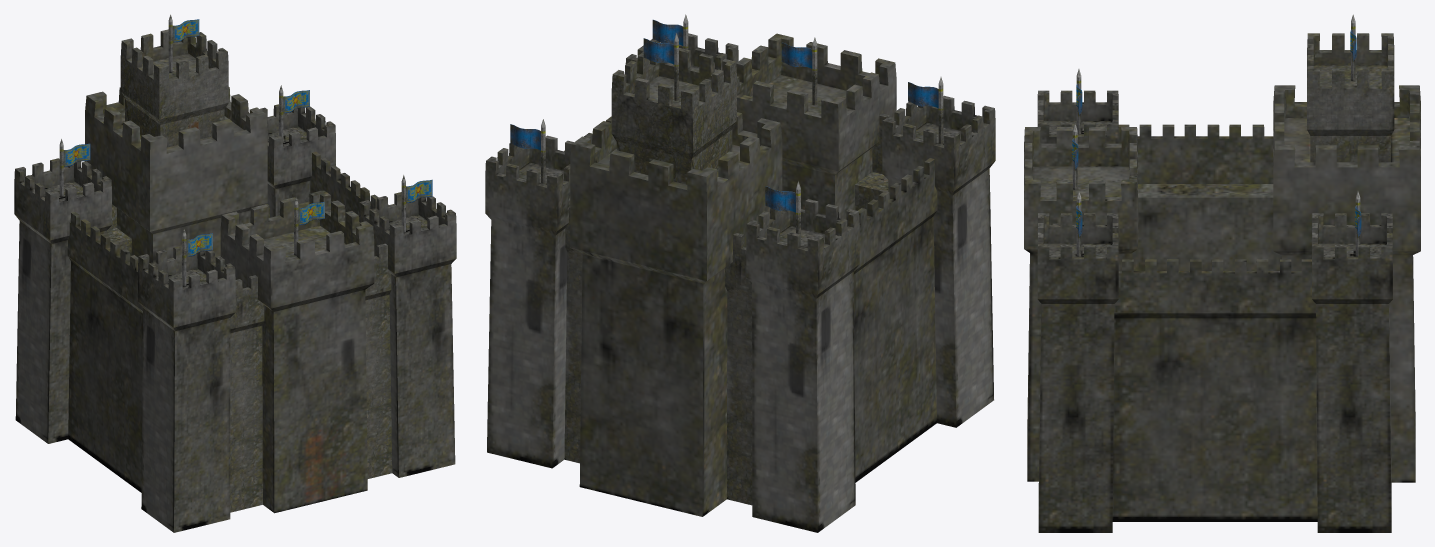
Rendered from fort.fbx.
3 views of the same model, side by side, from view 1: azimuth 30°, elevation 25°; view 2: azimuth 150°, elevation 25°; view 3: azimuth 270°, elevation 25° (orthographic). The views are drawn at different scales.
Visible parts, largest first — view 1: pCube38; view 2: pCube38; view 3: pCube38.
Boxes of the visible parts, left/top/right/bottom form: pCube38: left=14, top=14, right=456, bottom=532; pCube38: left=485, top=14, right=995, bottom=532; pCube38: left=1024, top=14, right=1420, bottom=532.
Size of the model in its own units: 1.51 by 1.94 by 1.59.
